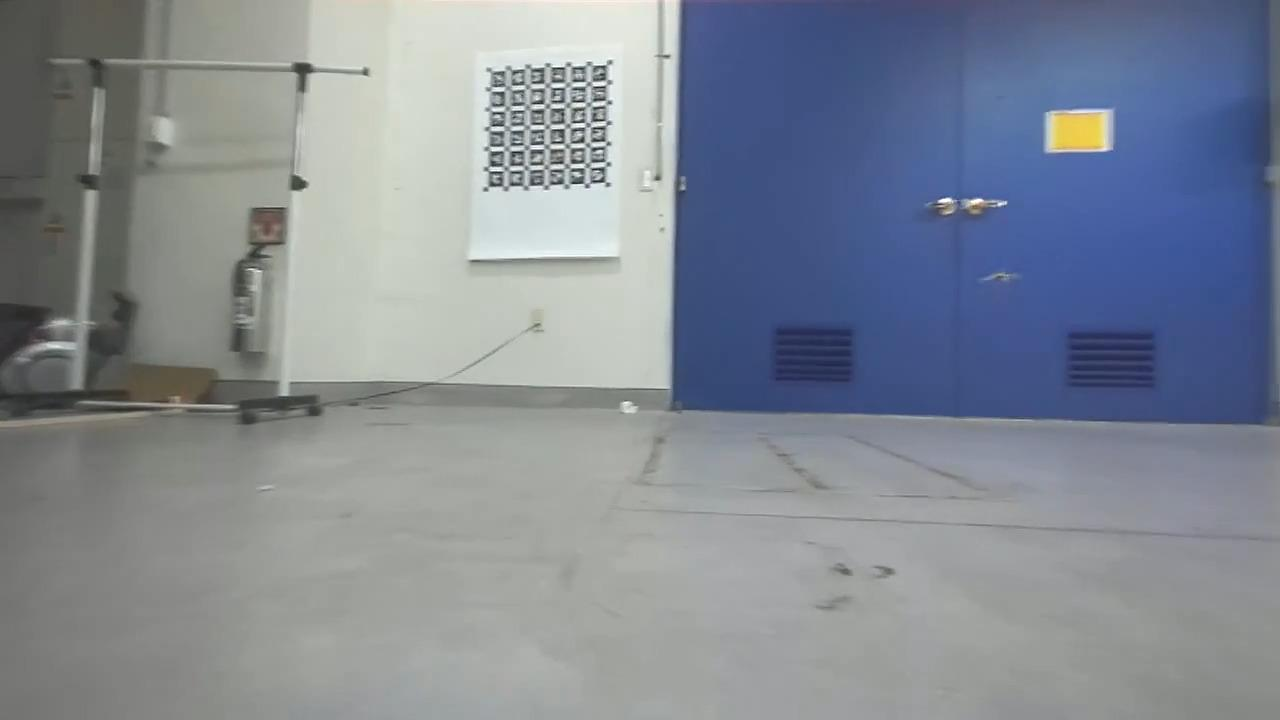crazyflie: (968, 264, 1033, 289)
